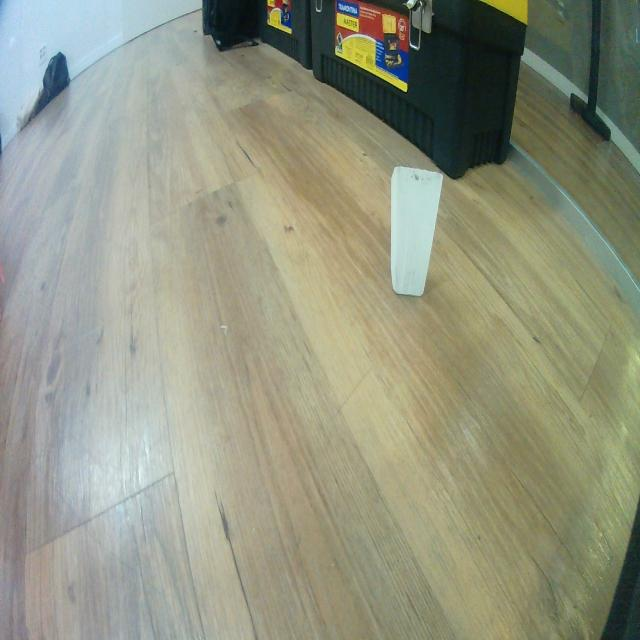erva_daninha: (390, 165, 444, 298)
